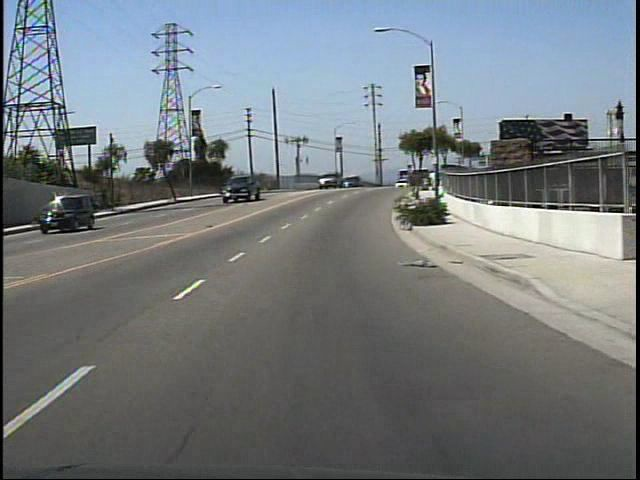person: (427, 168, 438, 196)
